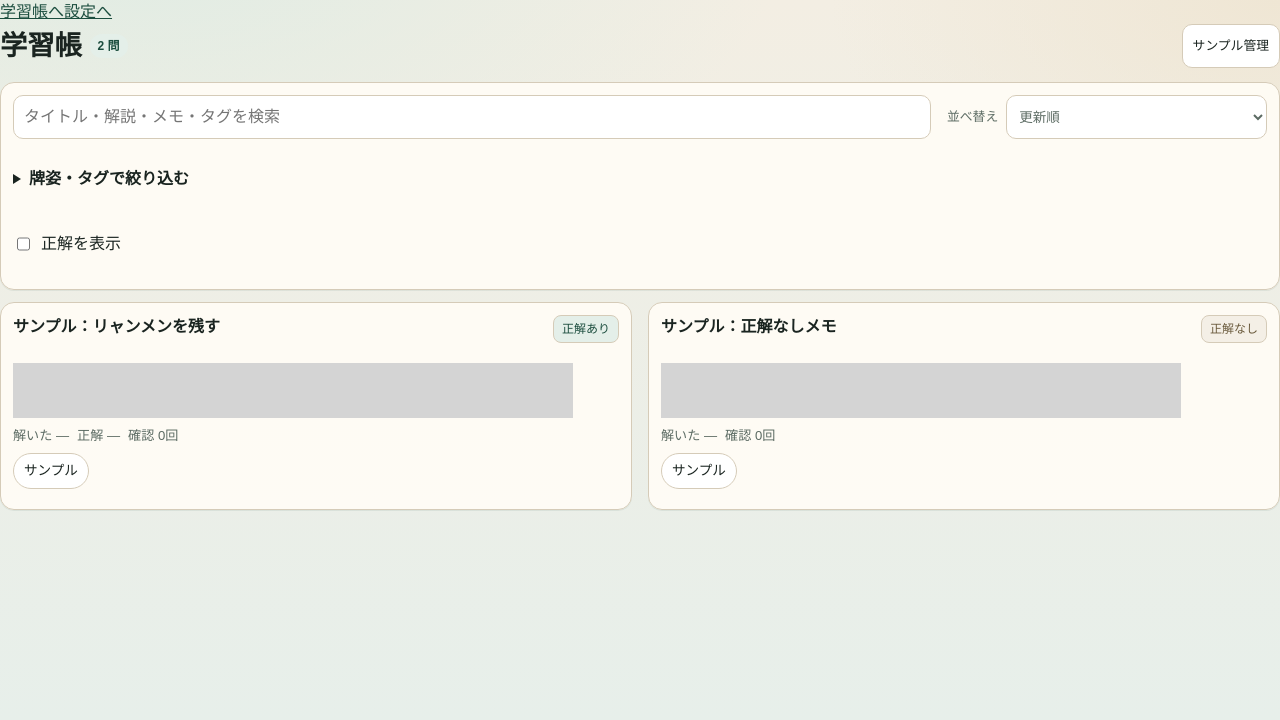
Scenario: leaves the exact saved data and visible library unchanged when the original backup cannot be saved
Click the button "サンプル管理".
click(1231, 46)  # box [1182,24,1279,68]
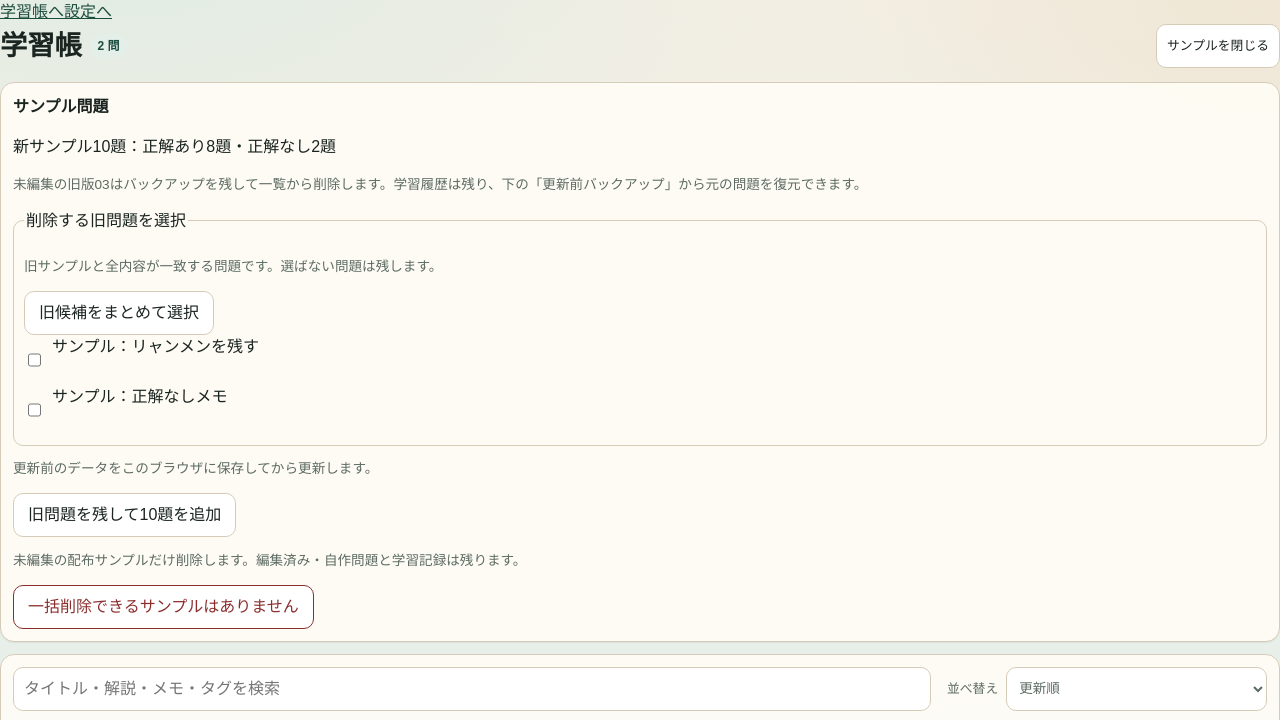
Click the checkbox labelled "サンプル：リャンメンを残す".
click(34, 360)  # box [28,338,41,382]
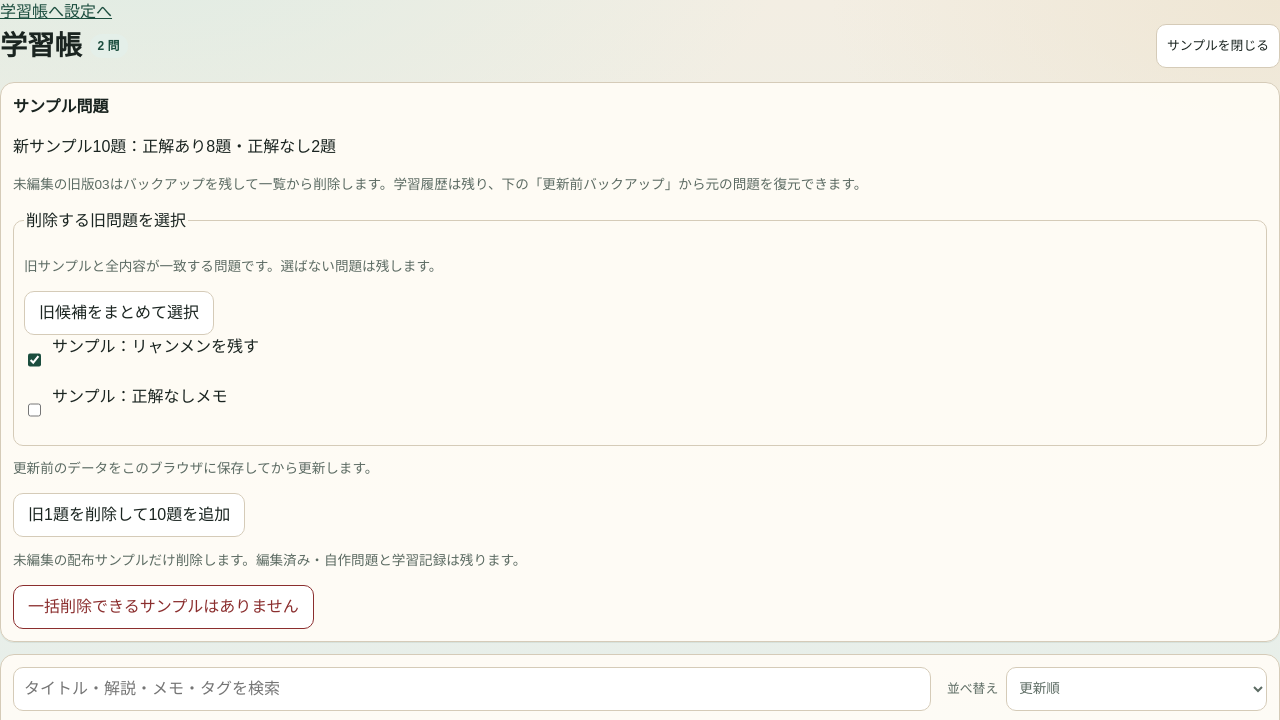
Click the button "旧1題を削除して10題を追加".
click(129, 515)  # box [13,493,245,537]
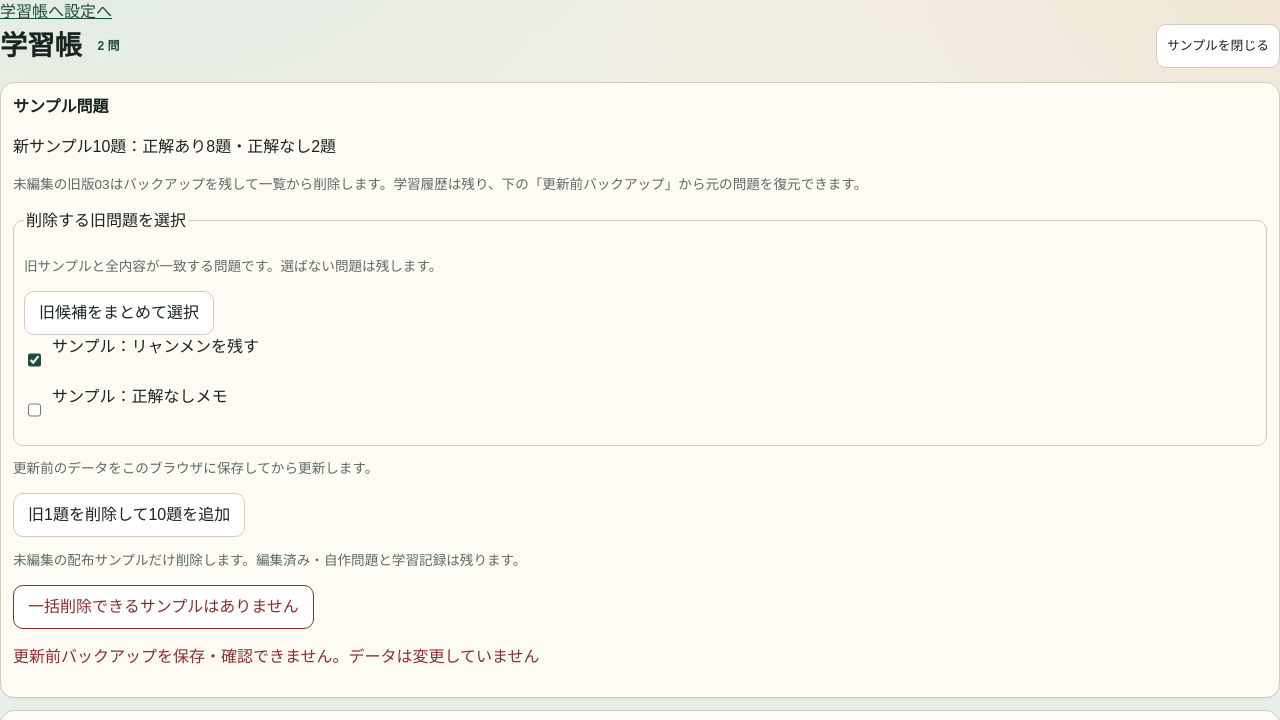
Check: the checkbox labelled "サンプル：リャンメンを残す" is checked, box [28,338,41,382]
Check: the message "更新前バックアップを保存・確認できません。データは変更していません" is shown, box [13,648,540,665]
